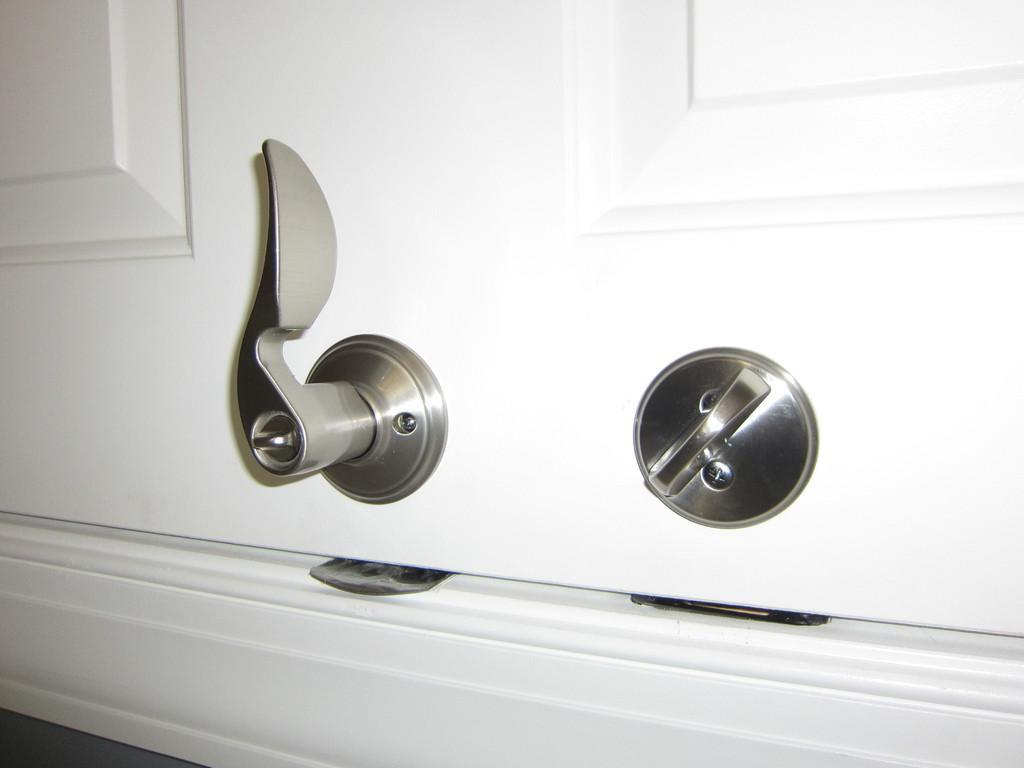handle: (224, 134, 450, 511)
